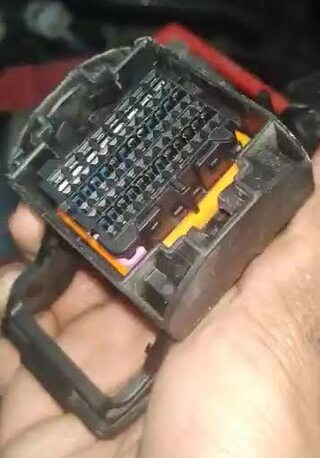connector: (6, 36, 316, 344)
